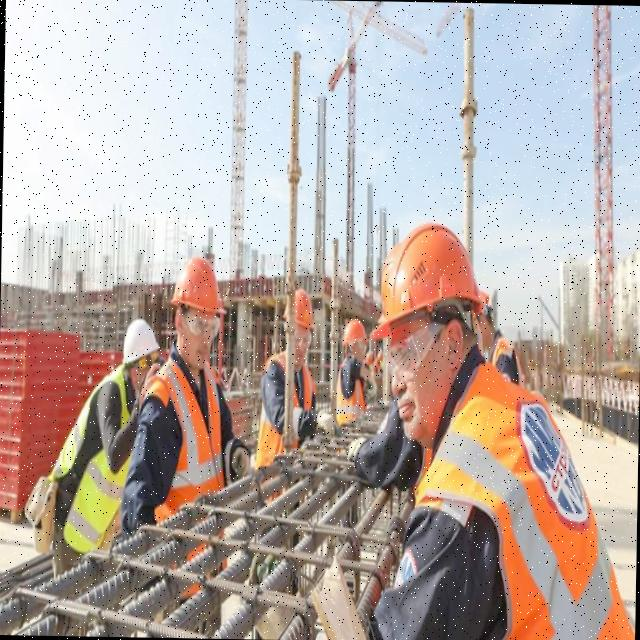Helmet: (370, 220, 486, 346), (170, 259, 227, 320), (123, 318, 161, 365), (295, 290, 317, 336), (343, 319, 369, 349)
Jacket: (403, 354, 612, 640), (155, 358, 226, 522), (78, 374, 134, 540), (260, 364, 313, 456), (337, 356, 364, 425)
